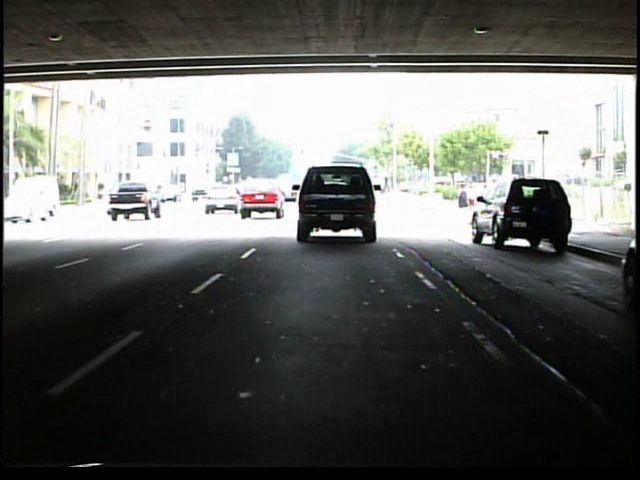person: (454, 182, 469, 214), (466, 185, 476, 209)
